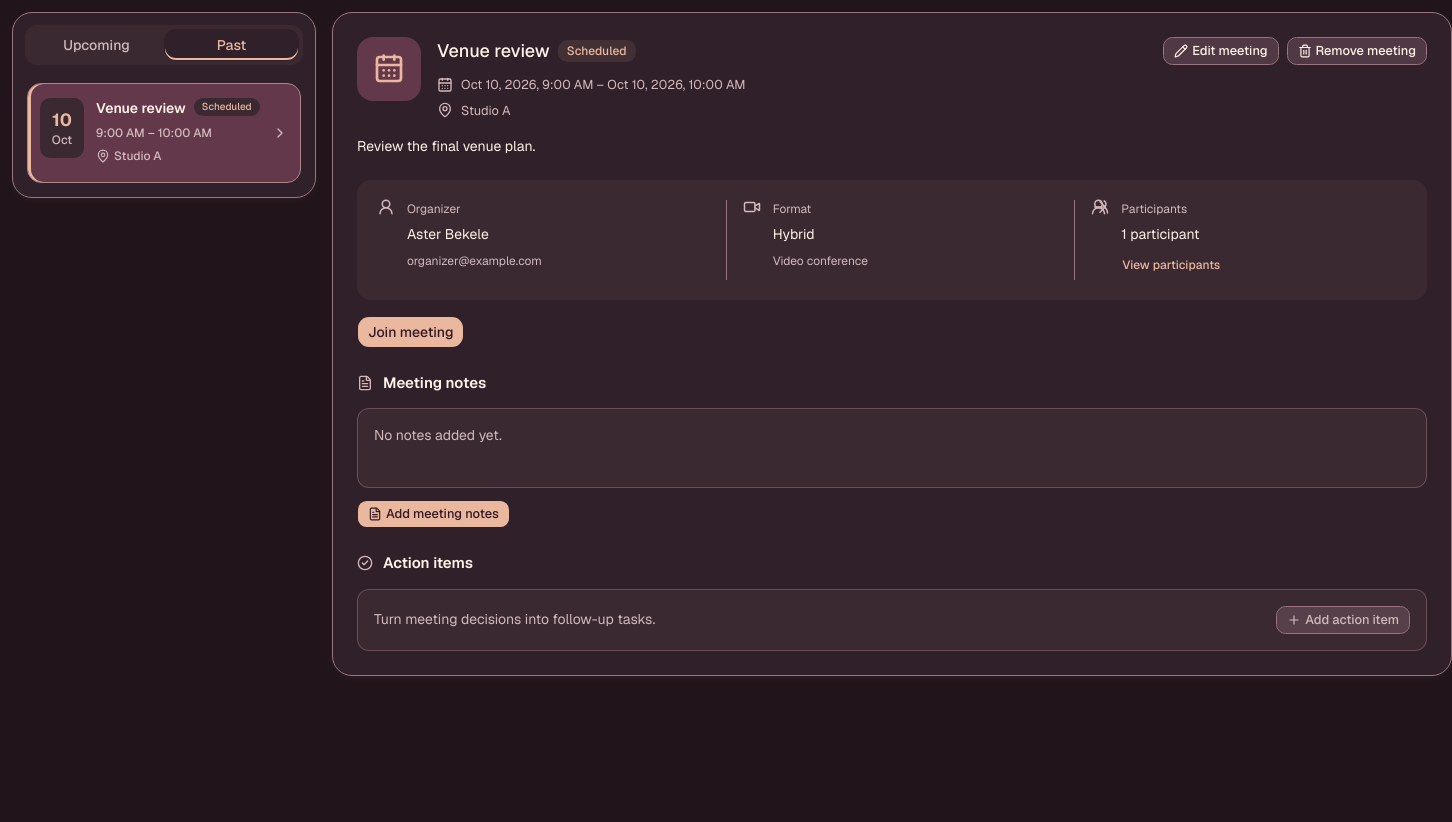
it: MeetingsManager › saves meeting notes and returns to the notes preview
The image size is (1452, 822).
Click the button "Add meeting notes" at (433,514), box 357,500 -> 510,528
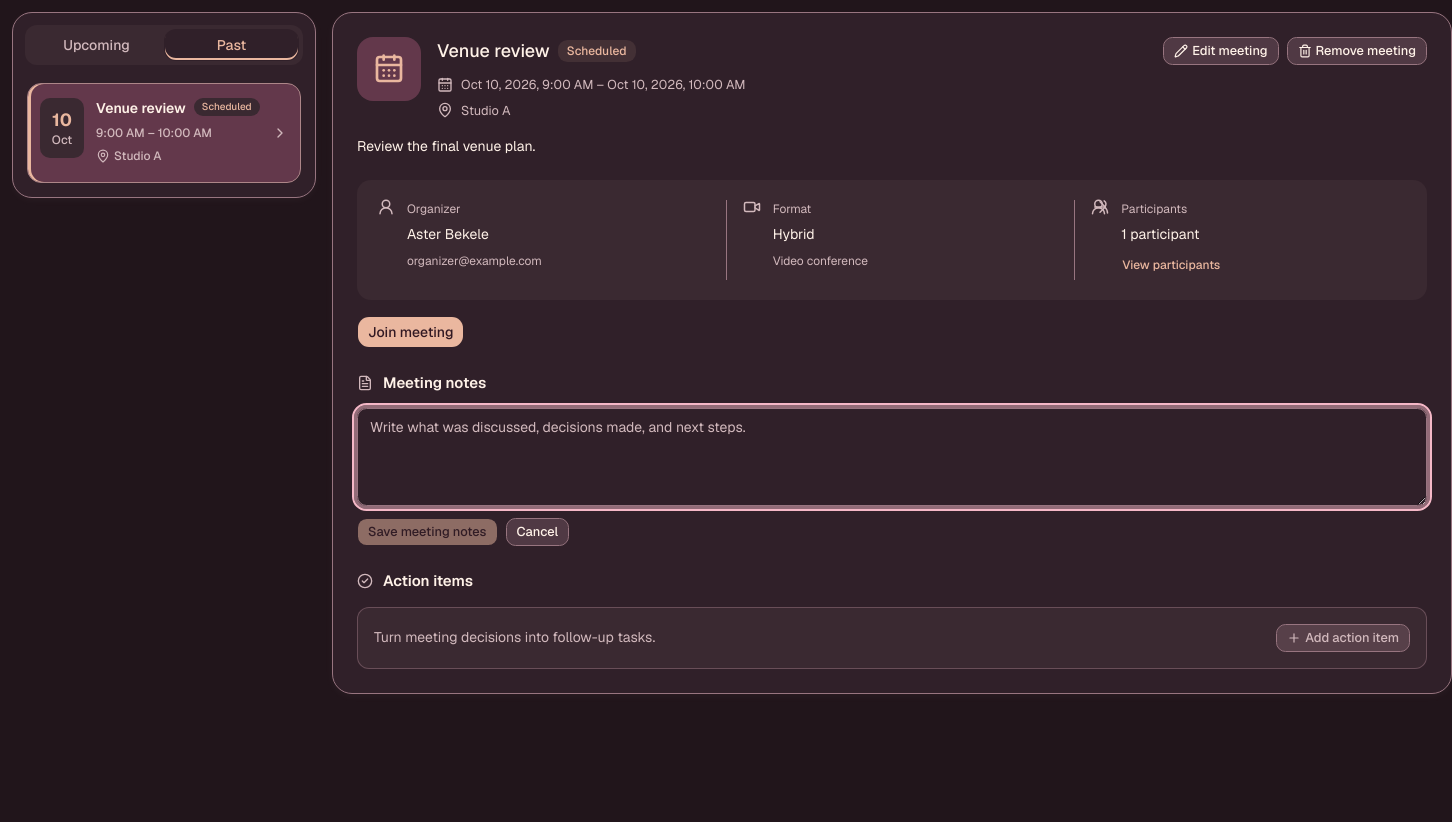
Type "Budget approved." into the text box named "Meeting notes" at (892,457), box 357,408 -> 1427,506
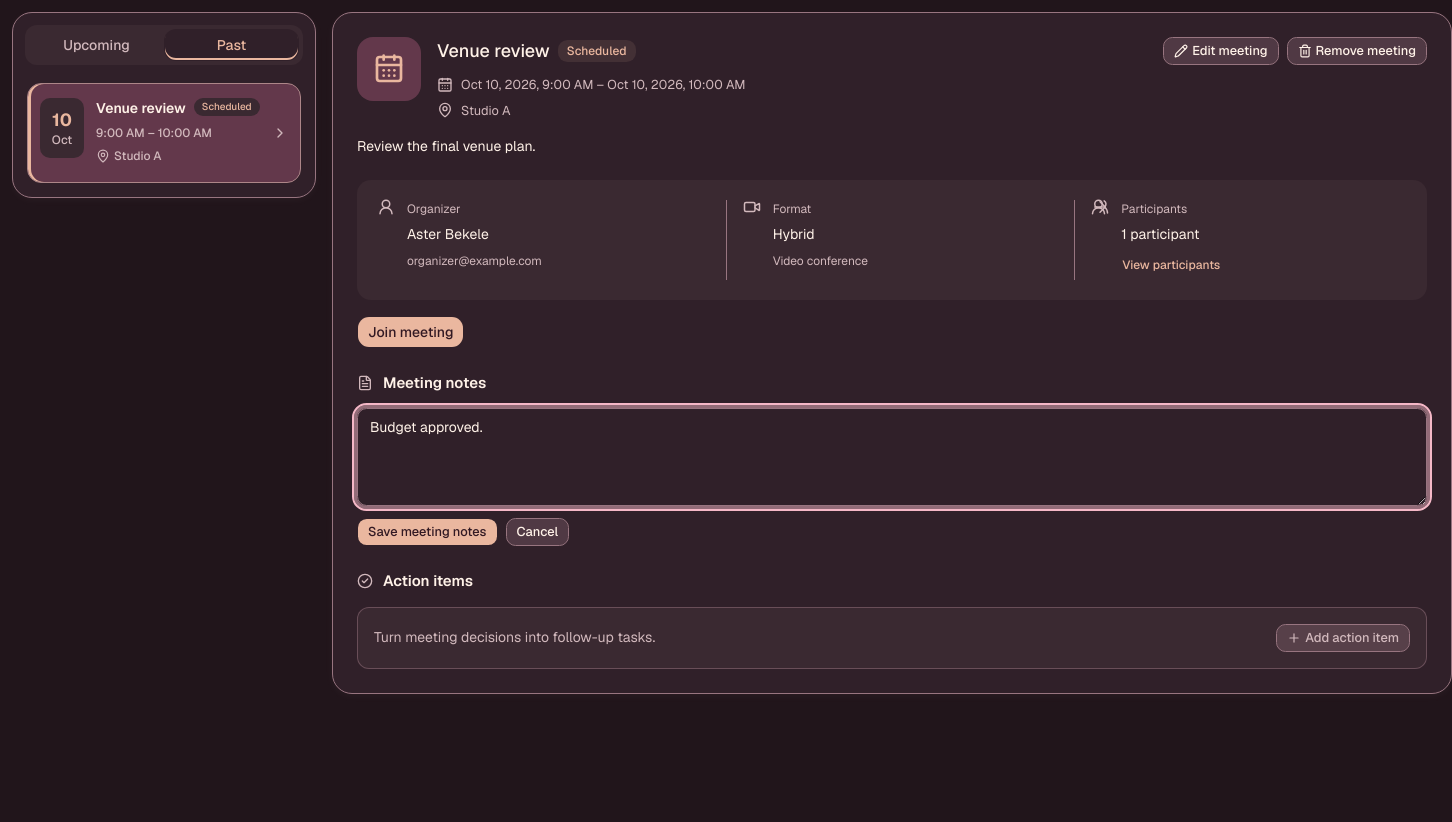
Click the button "Save meeting notes" at (427,532), box 357,518 -> 498,546
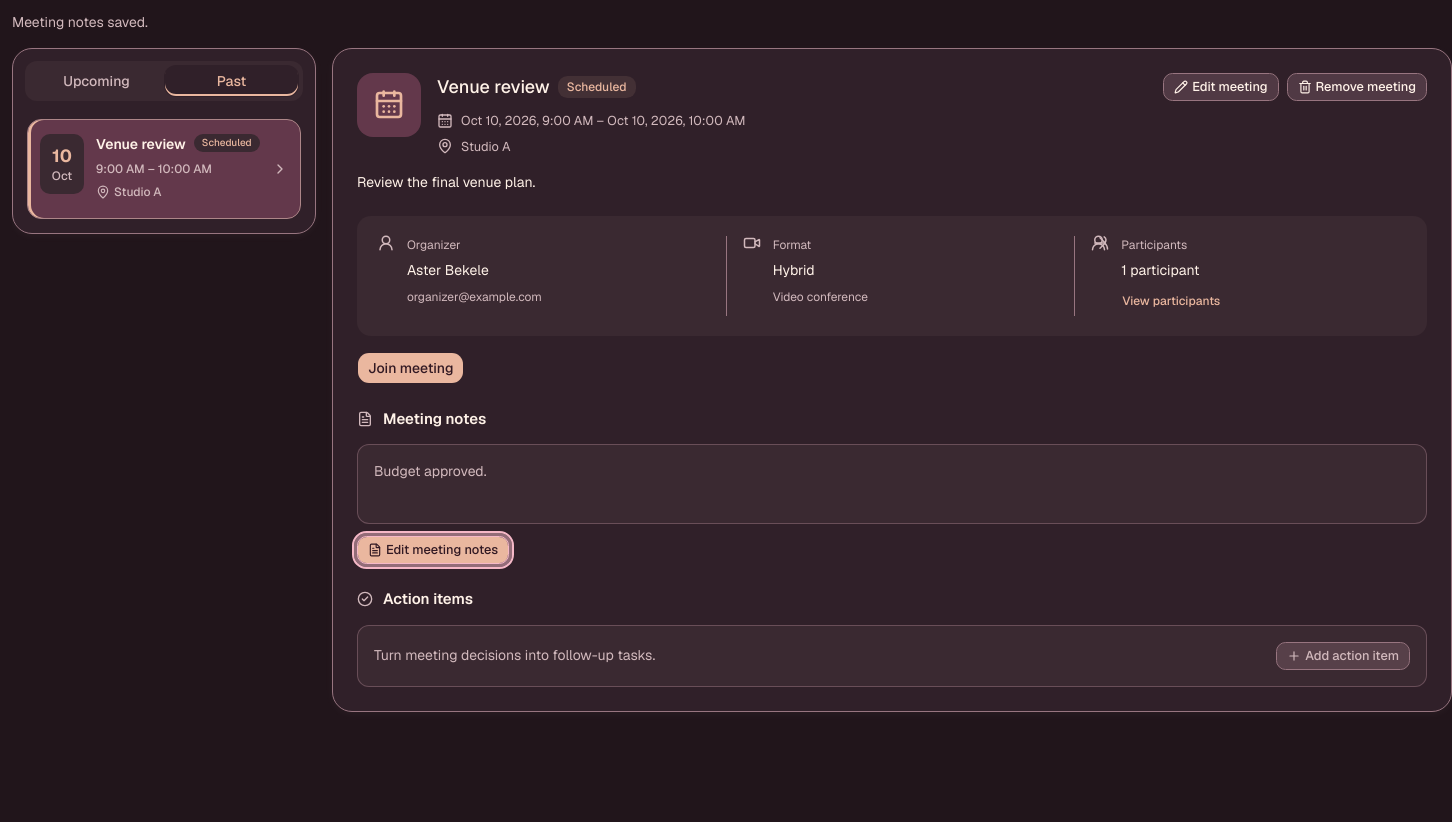
Result: the text "Budget approved." is shown at 357,444 -> 1427,524
